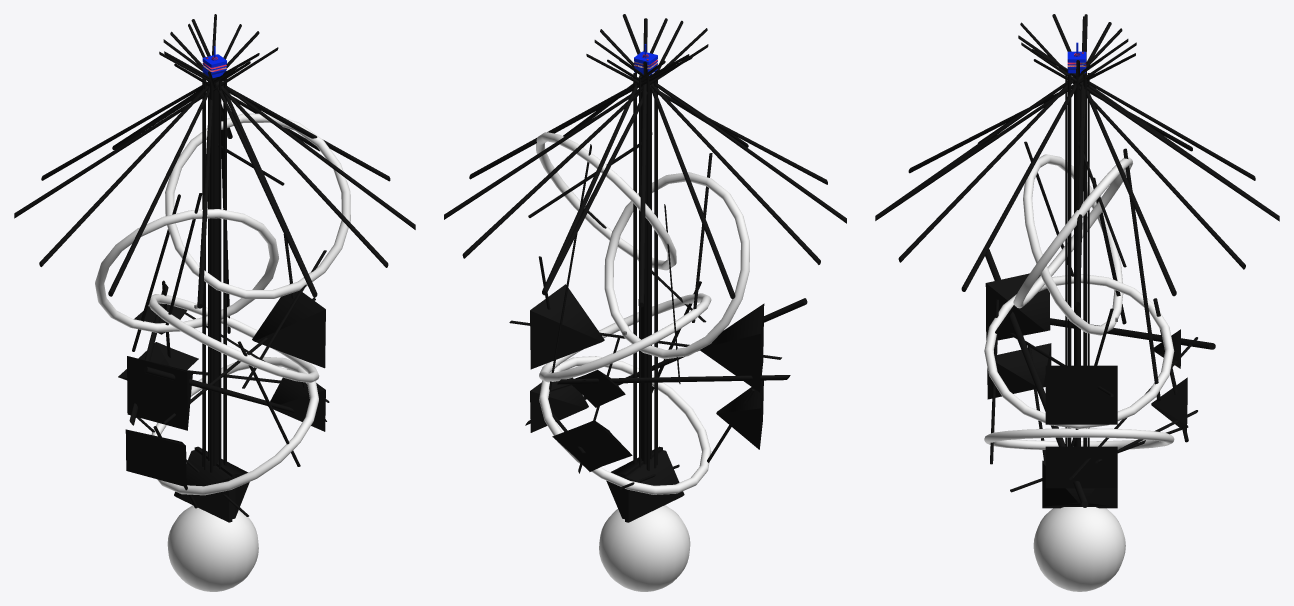
Rendered from find-the-controller-main-rune.obj.
3 views of the same model, side by side, from view 1: azimuth 30°, elevation 25°; view 2: azimuth 150°, elevation 25°; view 3: azimuth 270°, elevation 25° (orthographic).
Visible parts, largest first — view 1: group8 pCylinder38, group8 pSphere1, group8 pTorus4, group8 pTorus3, group8 pCube10, group8 pCube1, group8 pTorus2, group8 pTorus1, group8 pCube9, group8 pCylinder4, group8 pCube12, pCube2 group8 (+10 smaller); view 2: group8 pCylinder38, group8 pSphere1, group8 pTorus3, group8 pCube1, group8 pTorus1, group8 pTorus4, group8 pCube10, group8 pTorus2, group8 pCube13, group8 pCube12, group8 pCube9, pCube2 group8 (+13 smaller); view 3: group8 pCylinder38, group8 pSphere1, group8 pCube1, group8 pTorus2, pCube2 group8, group8 pTorus3, group8 pTorus1, group8 pTorus4, group8 pCube10, group8 pCube9, group8 pCube11, group8 pCylinder14 (+9 smaller).
Boxes of the visible parts, x1,y1,x2,y2 form: group8 pCylinder38: (14,14,415,308); group8 pSphere1: (167,505,258,591); group8 pTorus4: (165,113,350,298); group8 pTorus3: (95,209,278,332); group8 pCube10: (127,356,192,430); group8 pCube1: (252,284,325,368); group8 pTorus2: (149,294,319,382); group8 pTorus1: (151,356,318,495); group8 pCube9: (125,429,186,486); group8 pCylinder4: (213,78,218,465); group8 pCube12: (174,450,232,522); pCube2 group8: (268,369,325,431); group8 pCylinder38: (444,14,846,307); group8 pSphere1: (599,505,690,591); group8 pTorus3: (604,172,749,359); group8 pCube1: (530,284,604,369); group8 pTorus1: (539,356,711,494); group8 pTorus4: (536,132,676,270); group8 pCube10: (700,303,764,392); group8 pTorus2: (539,293,711,382); group8 pCube13: (552,420,632,471); group8 pCube12: (625,450,684,522); group8 pCube9: (716,380,763,449); pCube2 group8: (530,377,588,432); group8 pCylinder38: (875,14,1279,306); group8 pSphere1: (1033,507,1125,591); group8 pCube1: (1045,365,1117,424); group8 pTorus2: (984,274,1174,428); pCube2 group8: (1045,446,1117,488); group8 pTorus3: (1023,154,1123,335); group8 pTorus1: (984,428,1174,449); group8 pTorus4: (1013,157,1132,308); group8 pCube10: (985,273,1050,340); group8 pCube9: (987,343,1051,399); group8 pCube11: (1042,460,1117,506); group8 pCylinder14: (1067,73,1071,446).
Bounding box in the file's own units: 6.88 × 10.32 × 6.88.
